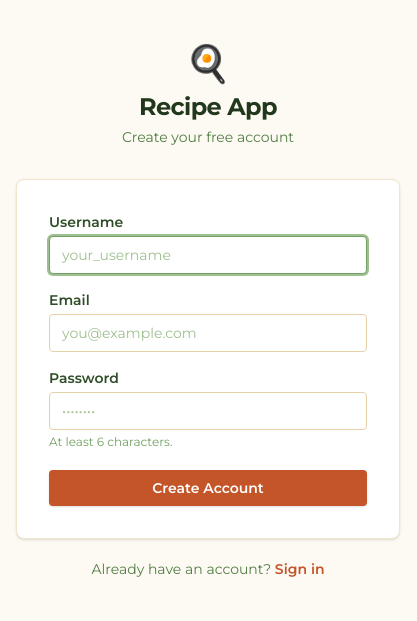
Test: RegisterPage › API returns 400 — shows message from response
The image size is (417, 621).
Step 1. Type "bob" into the field with placeholder "your_username" → (208, 255), box [49,236,367,274]
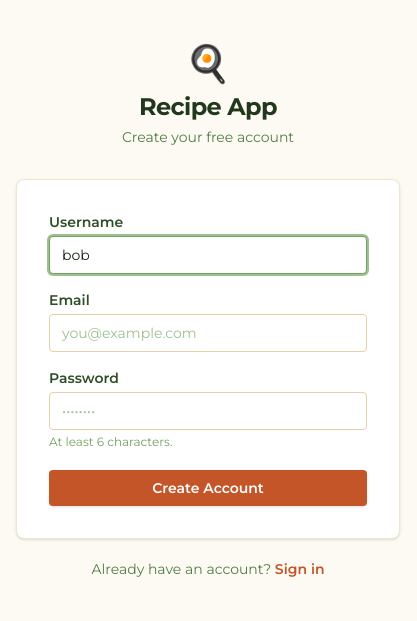
Step 2. Type "bob@test.com" into the field with placeholder "you@example.com" → (208, 333), box [49,314,367,352]
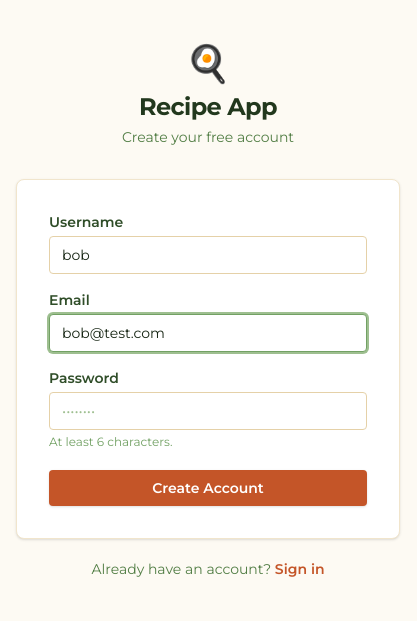
Step 3. Type "pass123" into the password field with placeholder "••••••••" → (208, 411), box [49,392,367,430]
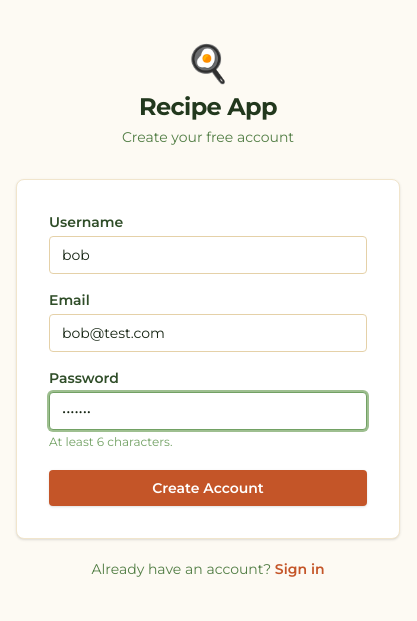
Step 4. Click the button "Create Account" → (208, 488), box [49,470,367,506]
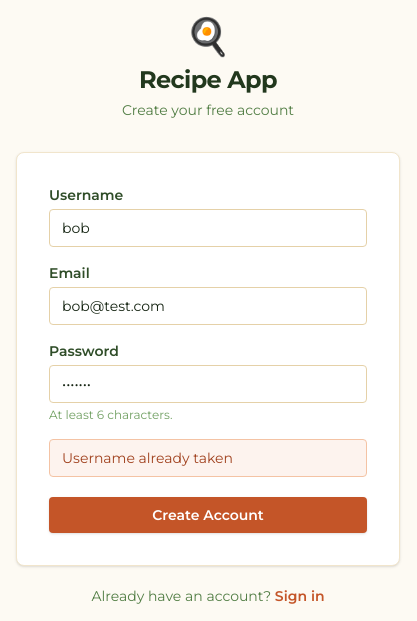
Expected: the text "Username already taken" is shown, [49,439,367,477]
